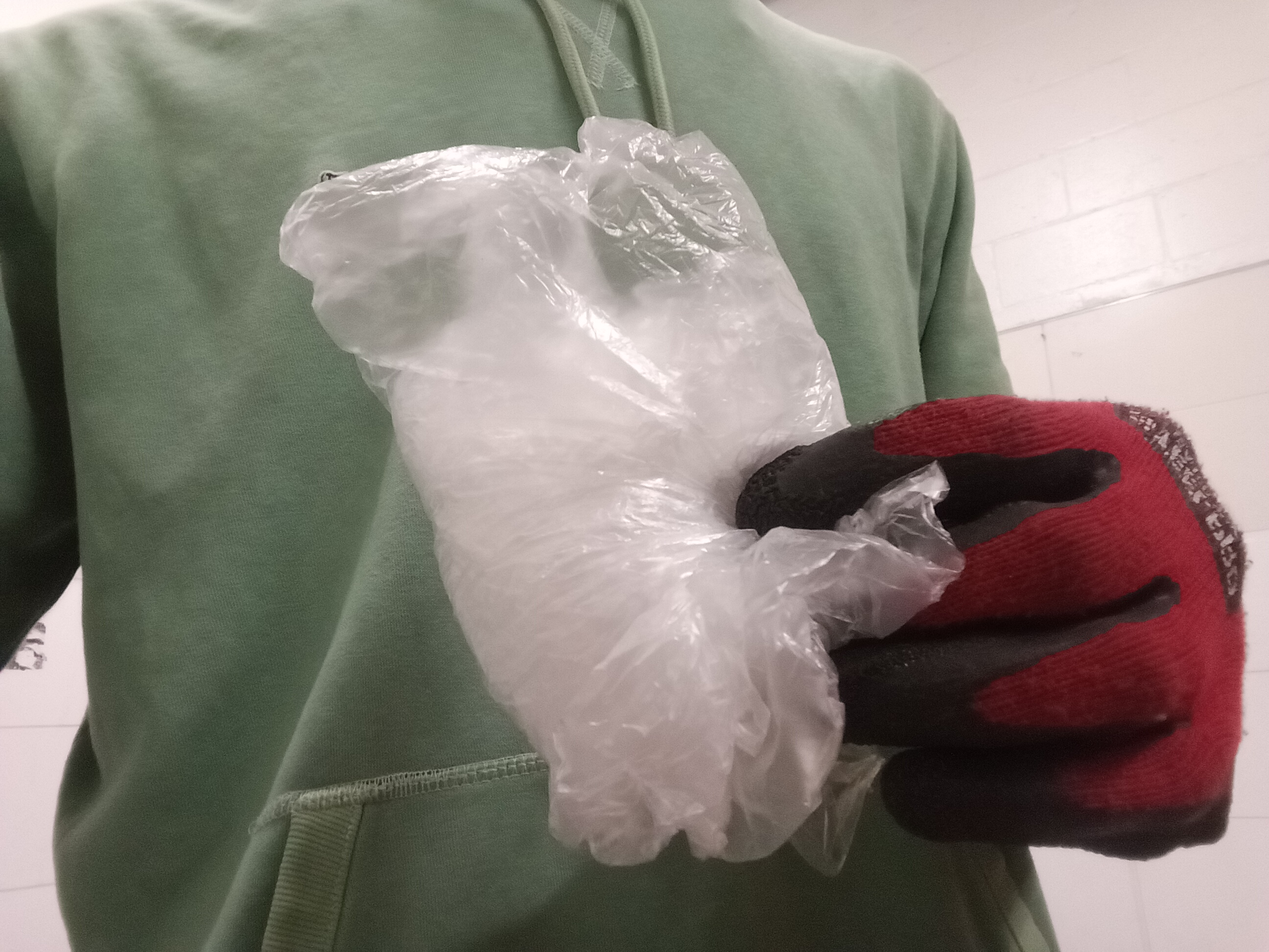Plastico: (279, 116, 968, 866)
